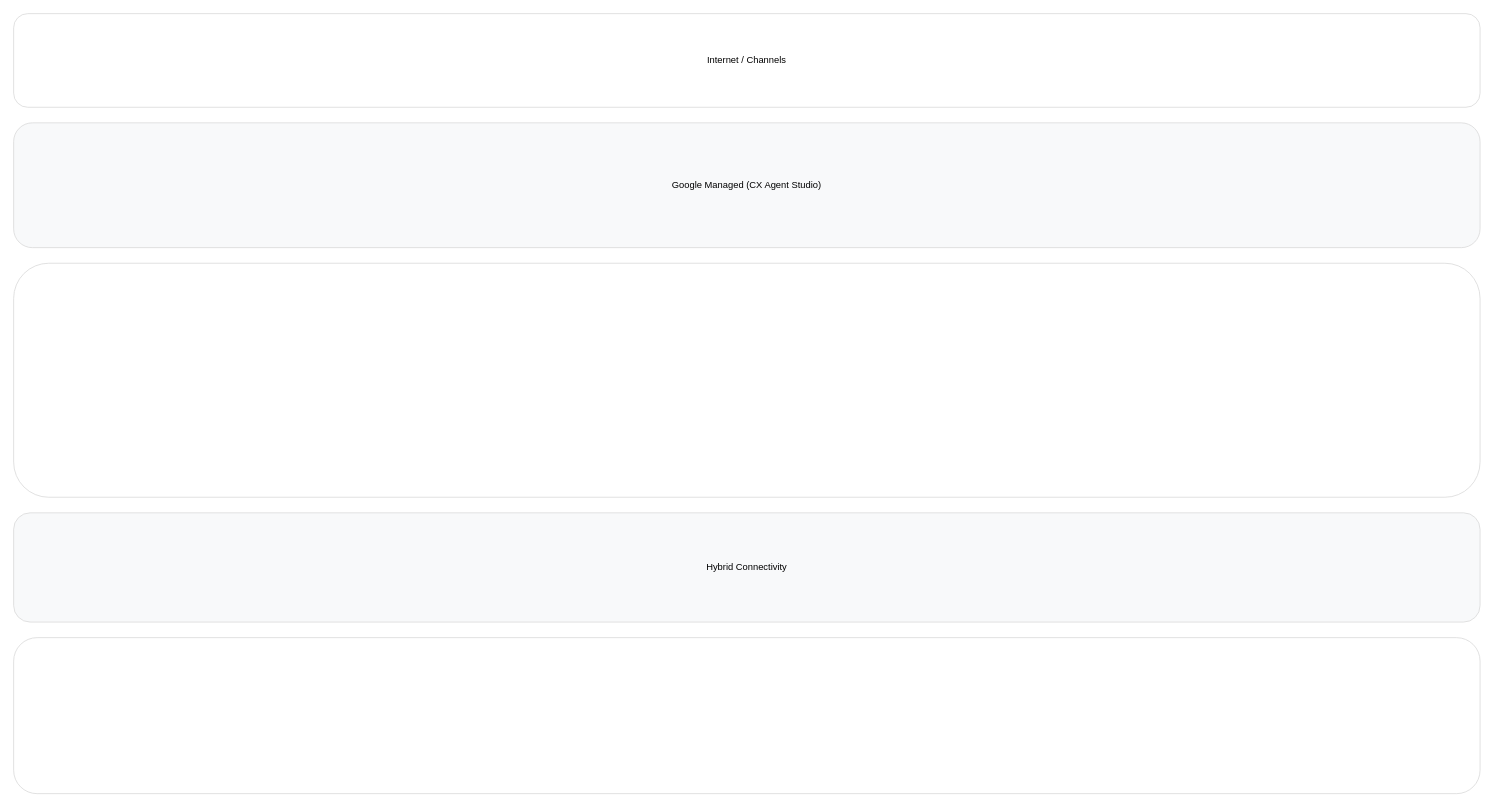
Some shapes in this 1494 by 807 pixel diagram are drawn without their labels. Each missing label, with the centre of its shape:
"GCP Landing Zone" belongs at point (746, 379).
"On-Prem Datacenter" belongs at point (746, 715).
